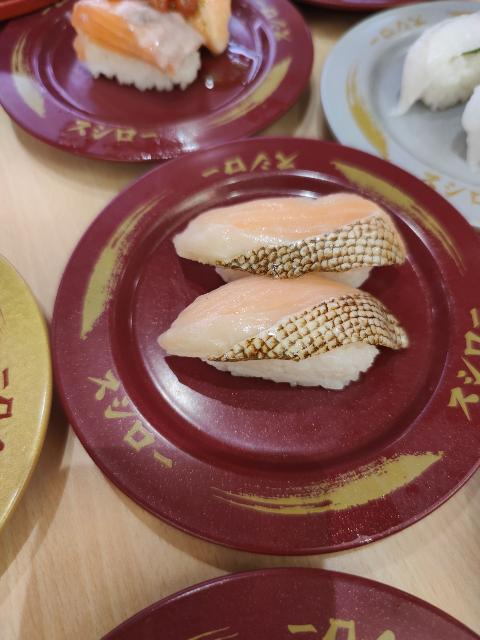jangold: (0, 219, 68, 579)
janred: (60, 142, 480, 565), (4, 3, 311, 158), (66, 582, 480, 640)
janwhite: (316, 3, 480, 225)
